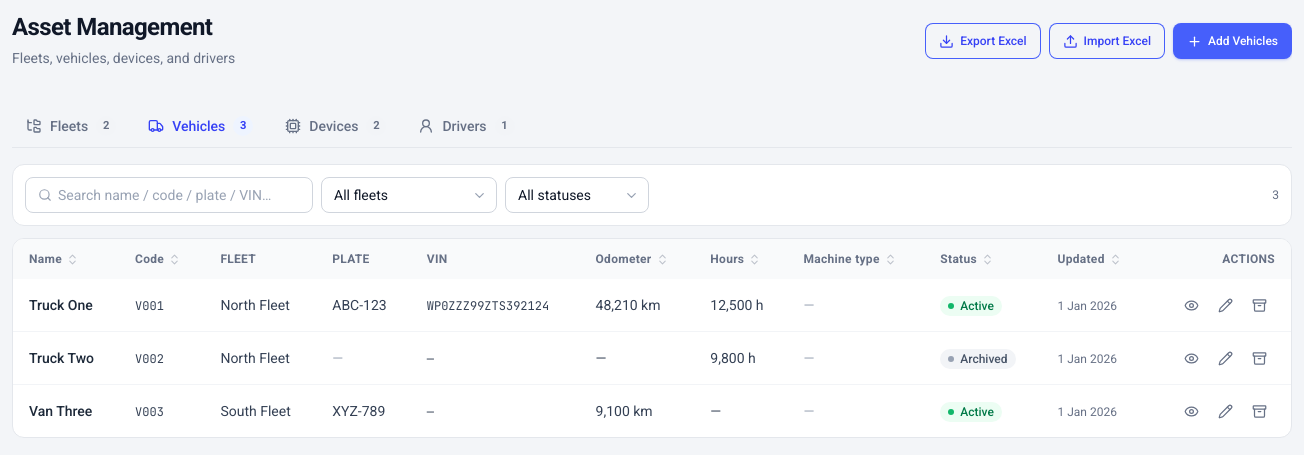
Test: AssetManagementPage › switches to the fleets tab and renders fleet rows
expect the heading "Asset Management" is shown: met, box 12,12 -> 235,42
Click the tab "Fleets 2": (71, 127) 12,106 -> 130,148
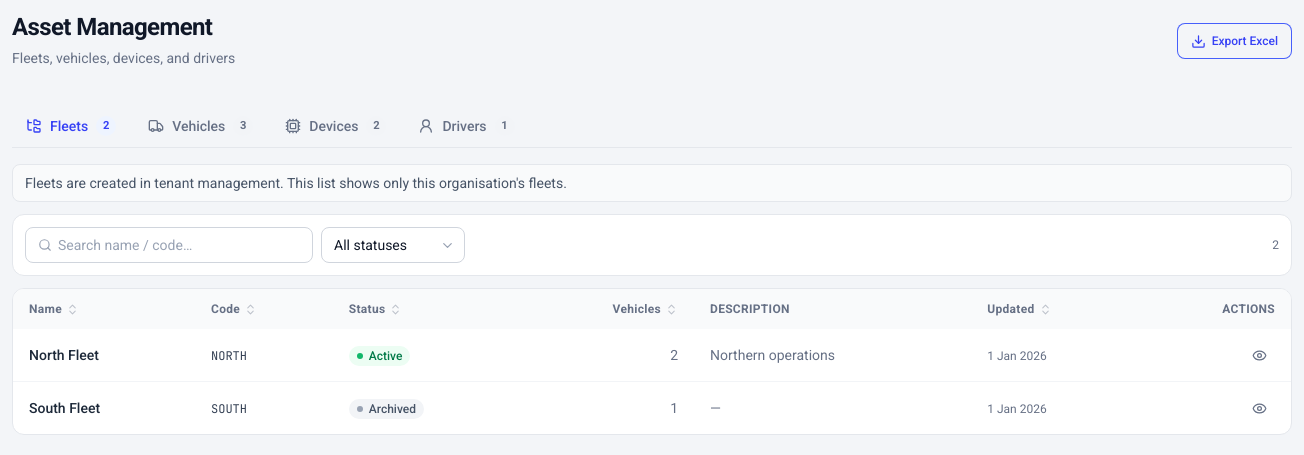
expect the text "North Fleet" is shown: met, box 29,347 -> 99,363
expect the text "NORTH" is shown: met, box 211,348 -> 247,364
